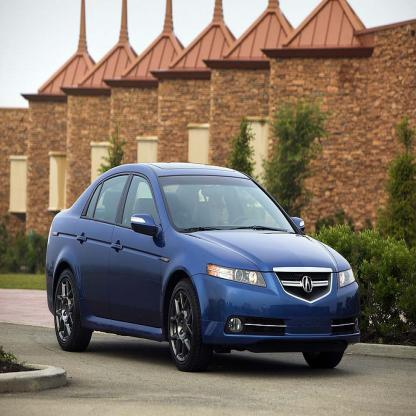Vehicle: (43, 160, 363, 372)
